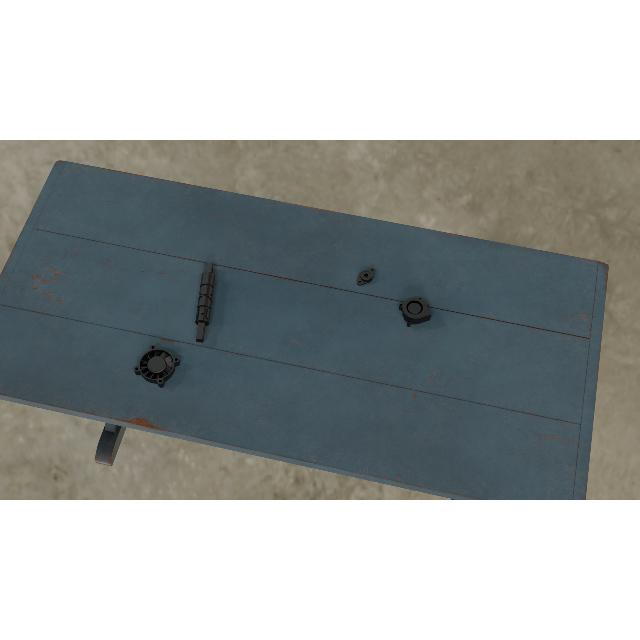Pieza1: (192, 260, 218, 344)
Pieza2: (352, 264, 380, 288)
Pieza3: (397, 294, 431, 328)
Pieza4: (132, 343, 182, 389)
